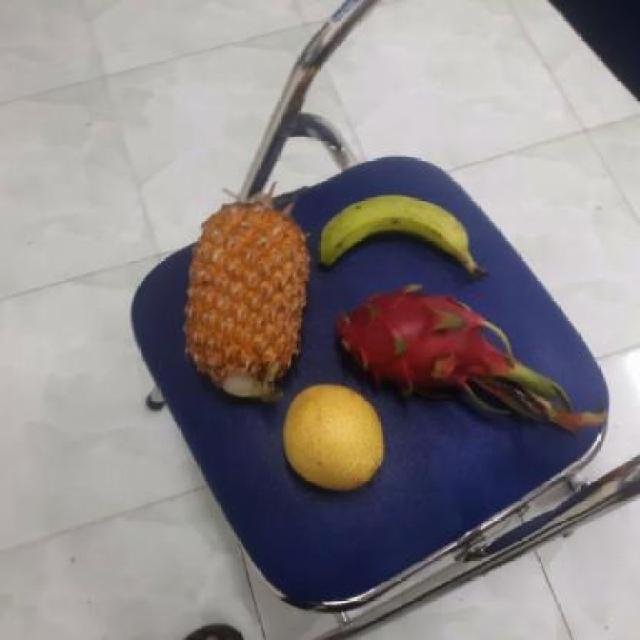banana: (316, 195, 473, 275)
dragon fruit: (328, 291, 500, 398)
pear: (277, 388, 388, 492)
pineapple: (180, 205, 312, 402)
